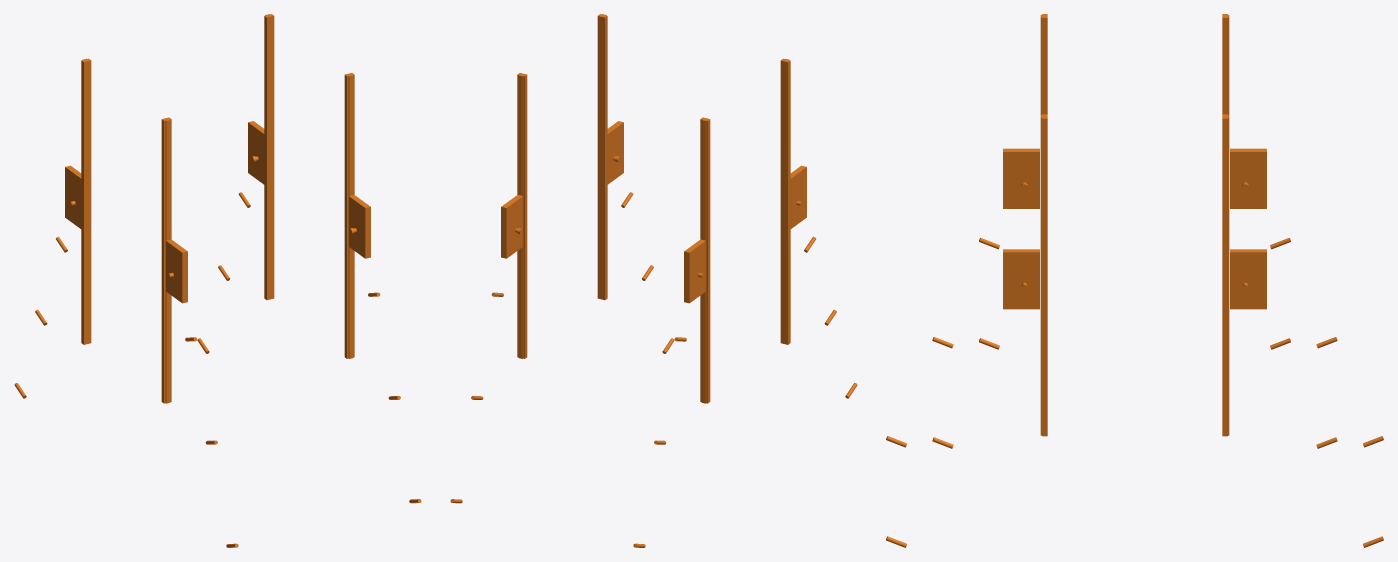
The model's file is c_cuts.glb.
The picture shows the model from 3 angles, left to right: view 1: azimuth 30°, elevation 25°; view 2: azimuth 150°, elevation 25°; view 3: azimuth 270°, elevation 25°; orthographic projection. The views are drawn at different scales.
Visible parts, largest first — view 1: BL_cut_ring_slot, BR_cut_ring_slot, FL_cut_ring_slot, FR_cut_ring_slot, FL_cut_panel, FR_cut_panel, BR_cut_panel, BL_cut_panel; view 2: FL_cut_ring_slot, FR_cut_ring_slot, BL_cut_ring_slot, BR_cut_ring_slot, BL_cut_panel, BR_cut_panel, FR_cut_panel, FL_cut_panel; view 3: FR_cut_panel, BR_cut_panel, FL_cut_panel, BL_cut_panel, FR_cut_ring_slot, BR_cut_ring_slot, FL_cut_ring_slot, BL_cut_ring_slot.
Boxes of the visible parts, bbox=[...] form: BL_cut_ring_slot: bbox=[81, 58, 91, 344]; BR_cut_ring_slot: bbox=[264, 14, 274, 300]; FL_cut_ring_slot: bbox=[161, 117, 171, 403]; FR_cut_ring_slot: bbox=[344, 73, 354, 358]; FL_cut_panel: bbox=[166, 239, 238, 547]; FR_cut_panel: bbox=[349, 195, 421, 503]; BR_cut_panel: bbox=[197, 121, 264, 353]; BL_cut_panel: bbox=[14, 165, 81, 398]; FL_cut_ring_slot: bbox=[780, 58, 790, 344]; FR_cut_ring_slot: bbox=[597, 14, 607, 300]; BL_cut_ring_slot: bbox=[700, 117, 710, 403]; BR_cut_ring_slot: bbox=[517, 73, 527, 358]; BL_cut_panel: bbox=[633, 239, 705, 547]; BR_cut_panel: bbox=[450, 195, 522, 503]; FR_cut_panel: bbox=[607, 121, 674, 353]; FL_cut_panel: bbox=[790, 165, 857, 398]; FR_cut_panel: bbox=[886, 249, 1039, 547]; BR_cut_panel: bbox=[1230, 249, 1383, 547]; FL_cut_panel: bbox=[886, 148, 1039, 447]; BL_cut_panel: bbox=[1230, 148, 1383, 447]; FR_cut_ring_slot: bbox=[1040, 114, 1047, 436]; BR_cut_ring_slot: bbox=[1222, 114, 1229, 436]; FL_cut_ring_slot: bbox=[1040, 14, 1047, 115]; BL_cut_ring_slot: bbox=[1222, 14, 1229, 115].
Bounding box in the file's own units: 0.365 × 0.681 × 0.7126.
